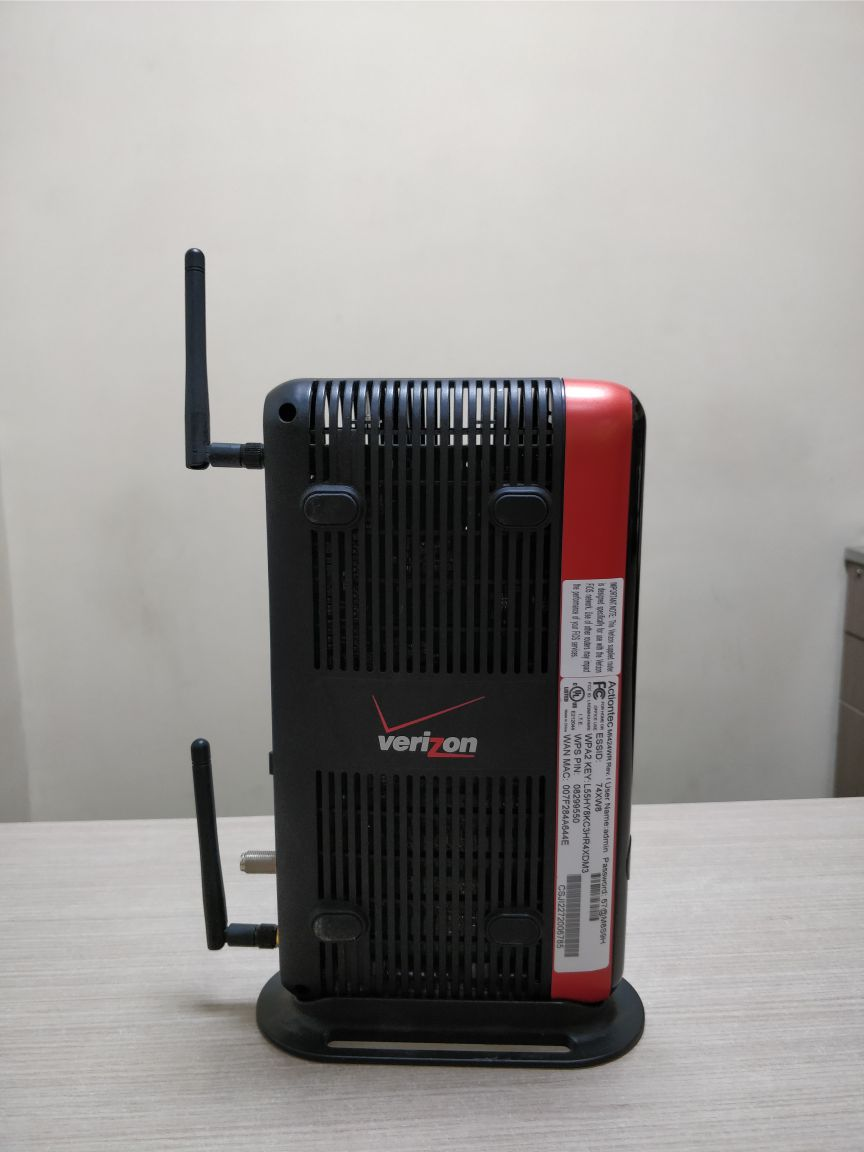Verizon Router: (131, 218, 751, 1105)
